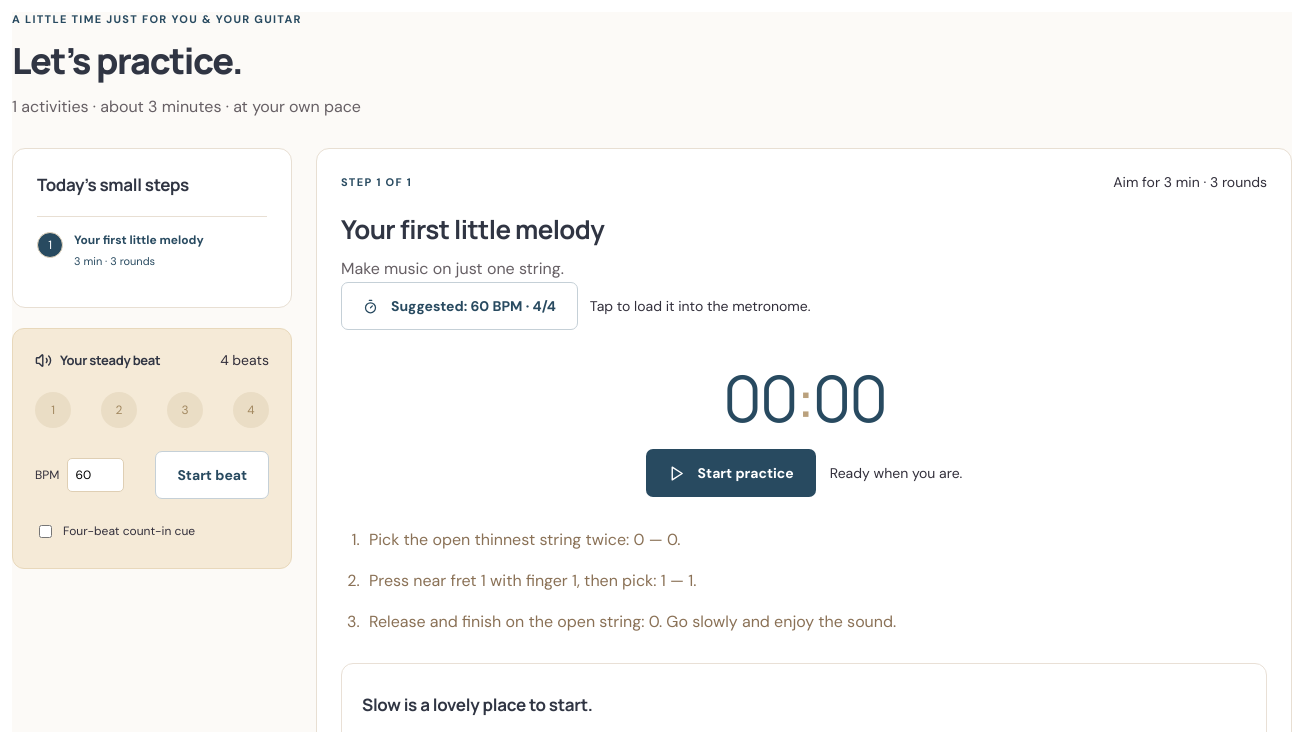
Scenario: PracticePage suggested-tempo chip › loads the preset into the metronome when the chip is tapped
// Change it away first so the chip tap proves it loads the preset back.
Replace the text in the number field named "Beats per minute" with "70": (95, 475) [66, 458, 124, 492]
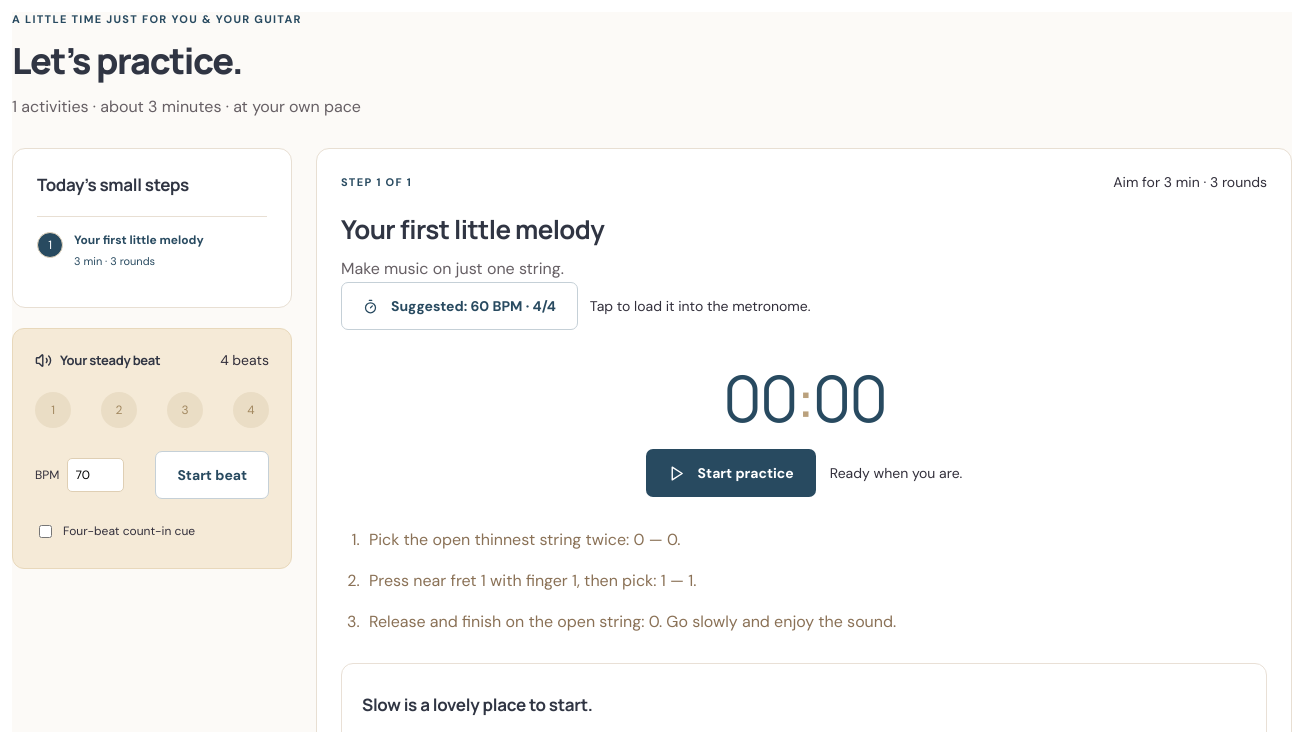
Click the button with aria-label "suggested tempo of 60 BPM in 4/4": (459, 306) [341, 282, 578, 330]
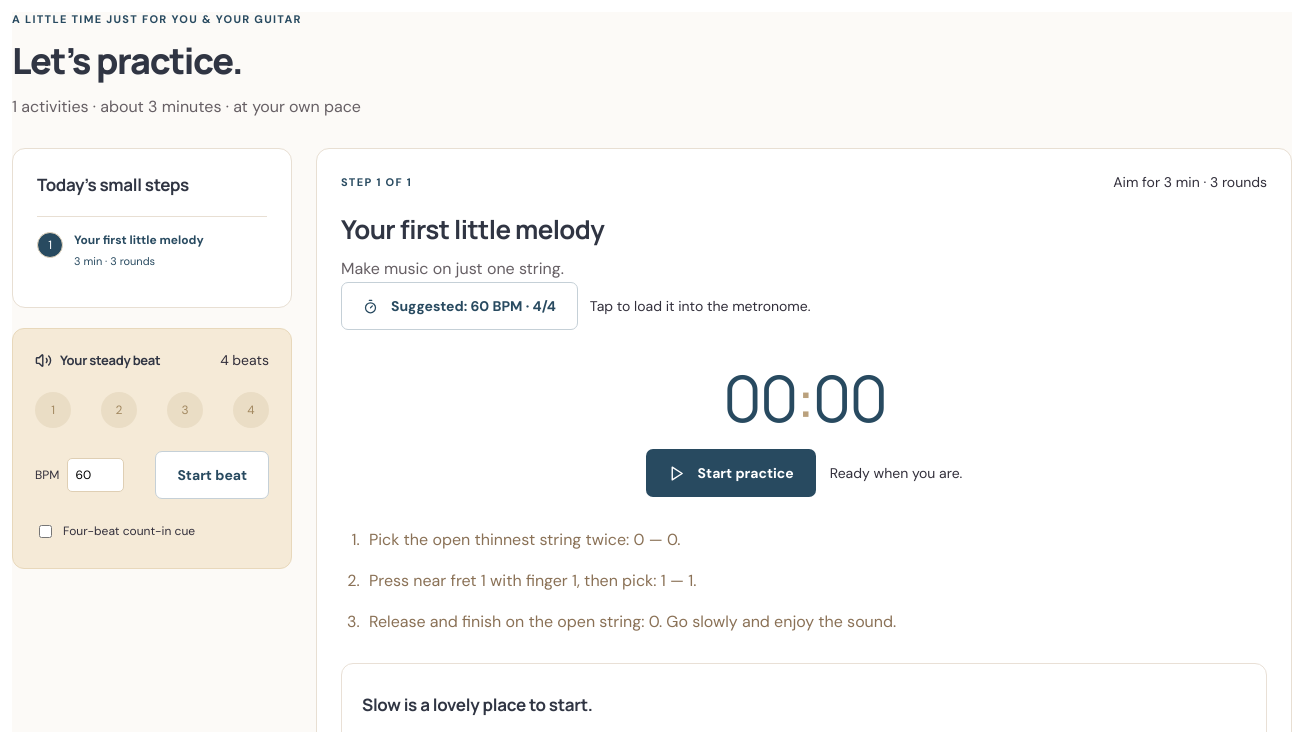
Expected: the number field named "Beats per minute" holds "60", [66, 458, 124, 492]
